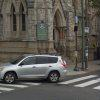Car: (1, 42, 74, 92)
